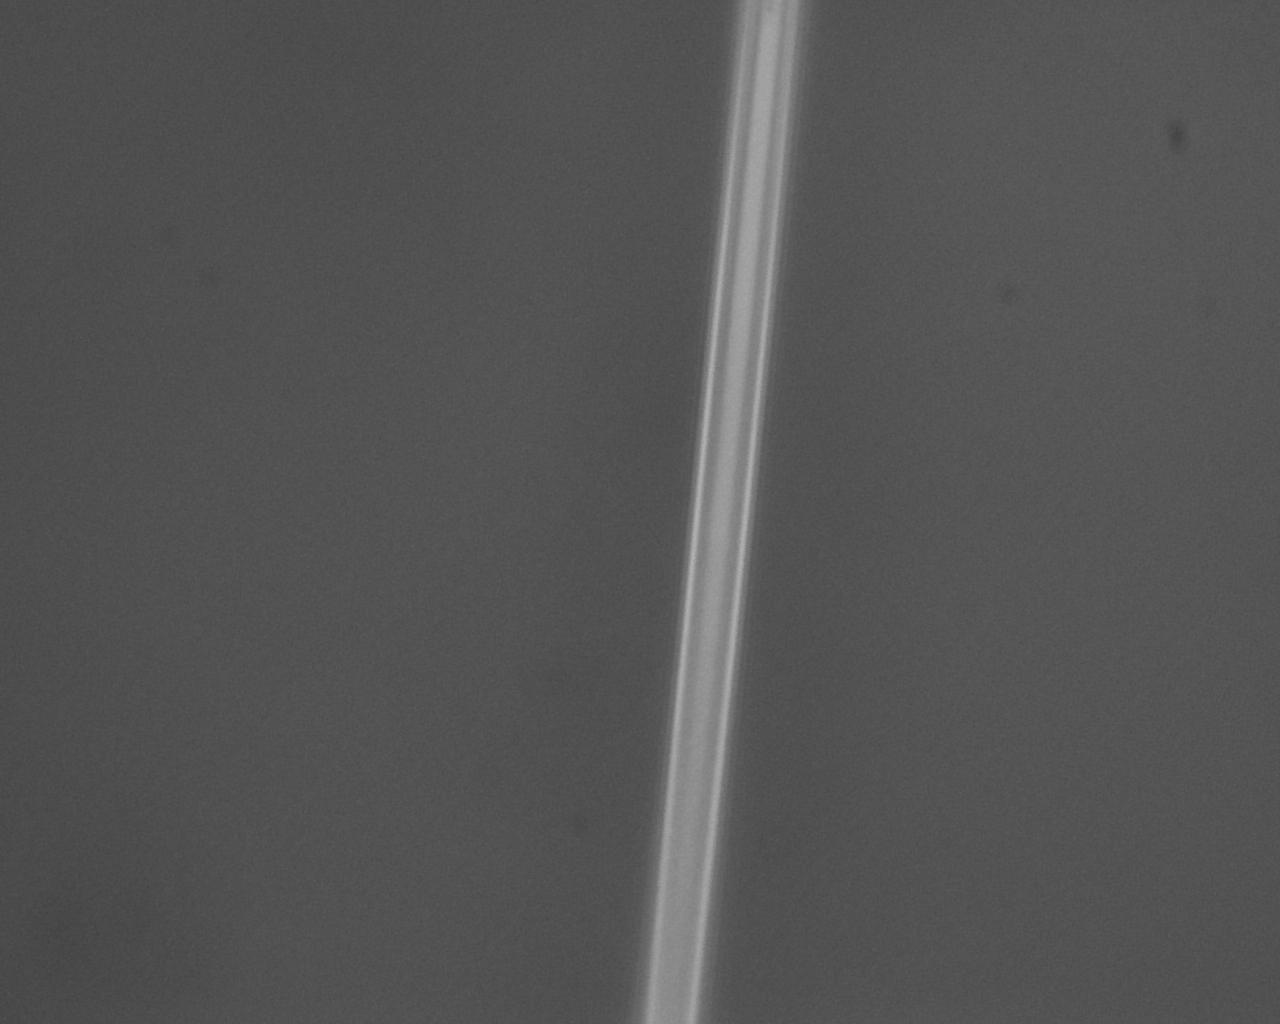fiber: (117, 0, 425, 594), (672, 0, 837, 594), (970, 594, 1141, 1024)
